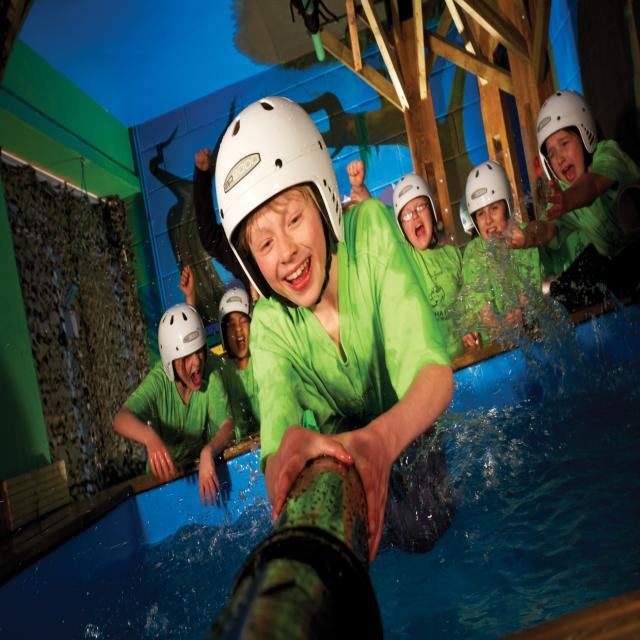body: (218, 92, 456, 562), (494, 88, 640, 300), (111, 302, 236, 512), (346, 158, 472, 363), (459, 160, 543, 348), (178, 263, 262, 441), (190, 142, 226, 256), (344, 186, 357, 208)
